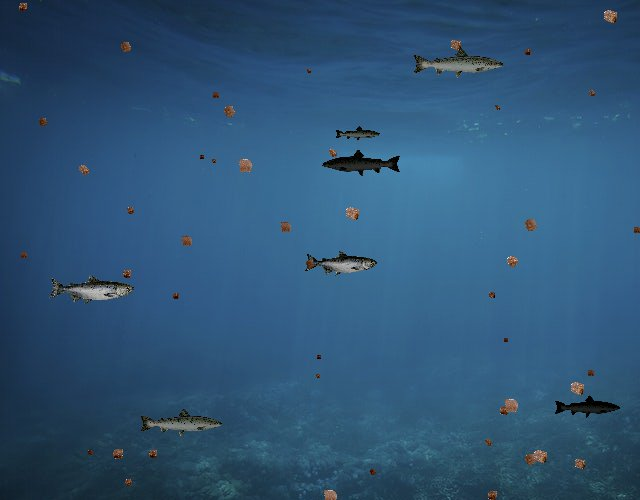Fish: (411, 47, 505, 80), (138, 407, 224, 438), (48, 274, 134, 305), (321, 148, 402, 178), (304, 251, 377, 277), (554, 394, 622, 418), (334, 126, 381, 143)
Pellet: (518, 212, 544, 238), (500, 249, 525, 274), (72, 159, 94, 181), (484, 288, 498, 302), (520, 45, 534, 59), (208, 156, 218, 166)
